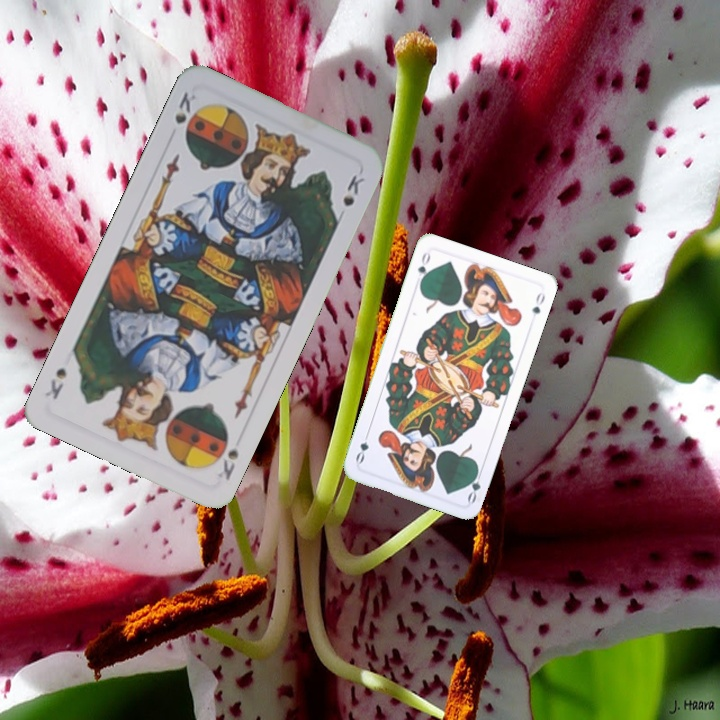GO: (463, 464, 485, 505), (414, 248, 433, 288)
SK: (211, 443, 241, 484), (170, 87, 199, 127)
